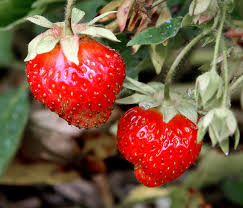ripe: (22, 33, 129, 132), (116, 106, 201, 192)
